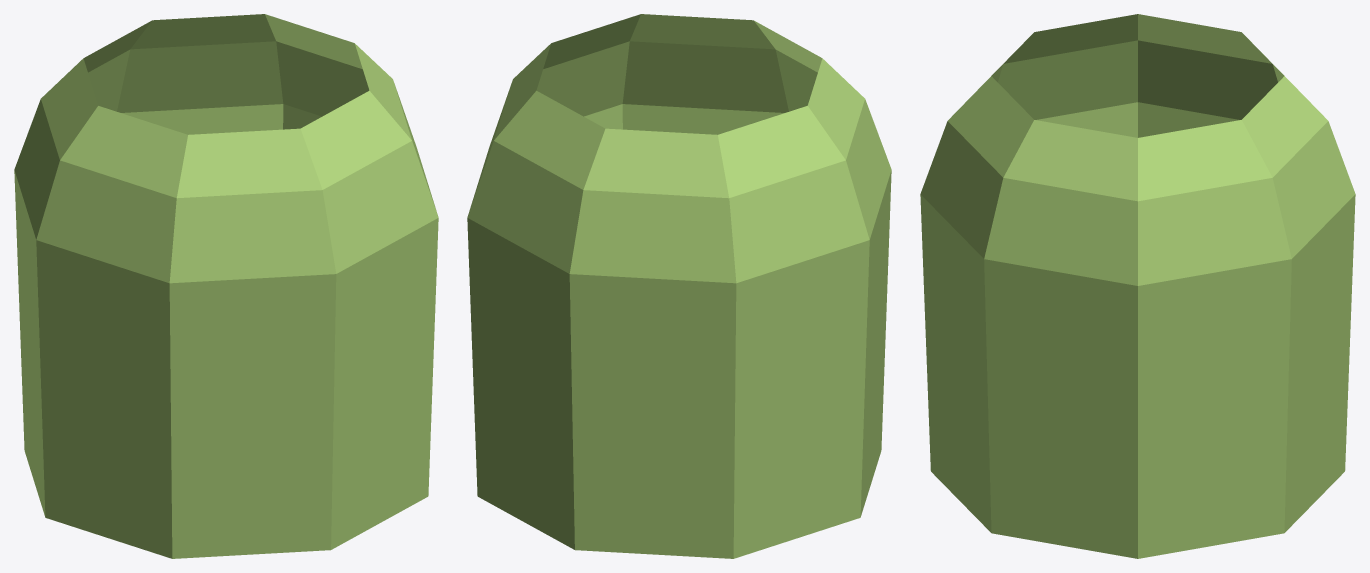
The model's file is SM_Prop_JarLiquid_02.fbx.
The picture shows the model from 3 angles, left to right: view 1: azimuth 30°, elevation 25°; view 2: azimuth 150°, elevation 25°; view 3: azimuth 270°, elevation 25°; orthographic projection.
Parts seen in each view (by area): view 1: SM_Prop_JarLiquid_02; view 2: SM_Prop_JarLiquid_02; view 3: SM_Prop_JarLiquid_02.
Boxes of the visible parts, x1,y1,x2,y2 form: SM_Prop_JarLiquid_02: (14,14,438,558); SM_Prop_JarLiquid_02: (467,14,891,558); SM_Prop_JarLiquid_02: (920,14,1355,558).
Size of the model in its own units: 19.42 by 19.47 by 19.42.
